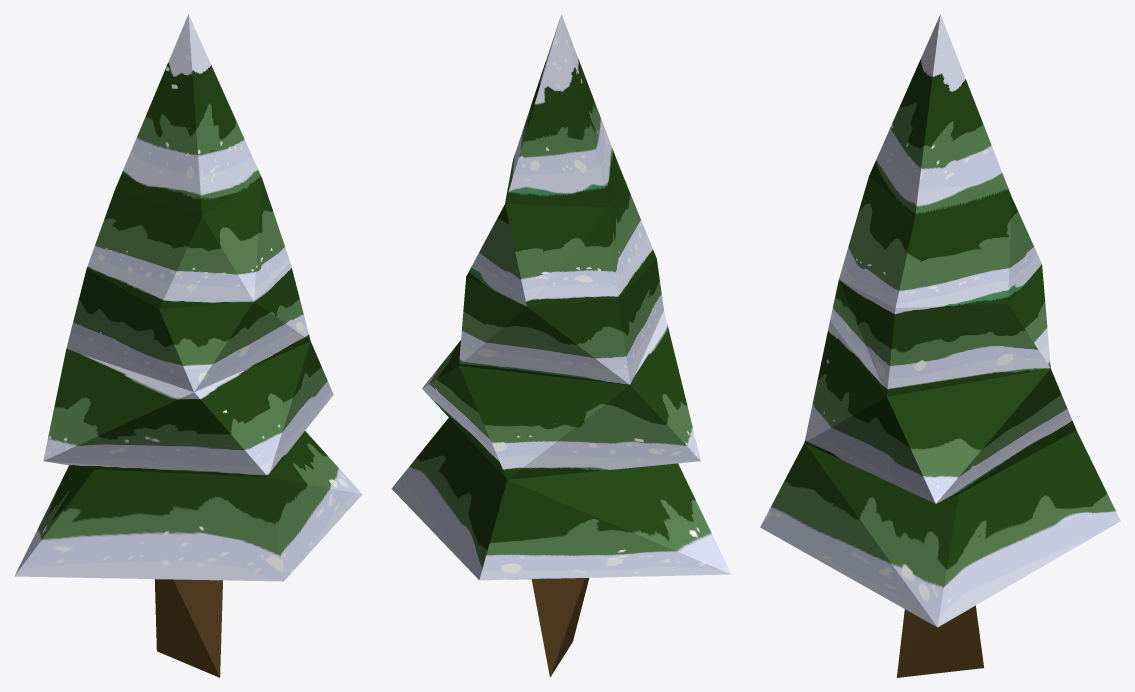
The model's file is Pine_LOD02.fbx.
3 renders of one model, left to right at view 1: azimuth 30°, elevation 25°; view 2: azimuth 150°, elevation 25°; view 3: azimuth 270°, elevation 25°, orthographic. The views are drawn at different scales.
Parts seen in each view (by area): view 1: Pine_LOD02; view 2: Pine_LOD02; view 3: Pine_LOD02.
Part boxes in pixels (<box>): Pine_LOD02: <box>14,14,362,677</box>; Pine_LOD02: <box>391,14,731,677</box>; Pine_LOD02: <box>760,14,1120,677</box>.
Bounding box in the file's own units: 1103 × 1985 × 985.
